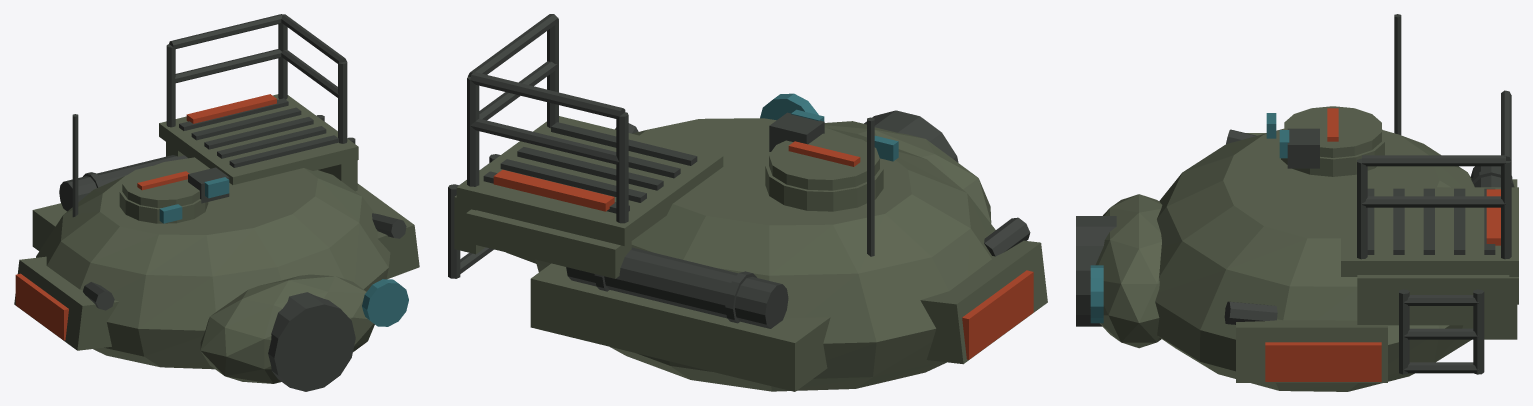
Rendered from Bastion_MT12_Turret.obj.
3 renders of one model, left to right at view 1: azimuth 30°, elevation 25°; view 2: azimuth 150°, elevation 25°; view 3: azimuth 270°, elevation 25°, orthographic. The views are drawn at different scales.
Visible parts, largest first — view 1: Bastion_MT12_Turret; view 2: Bastion_MT12_Turret; view 3: Bastion_MT12_Turret.
Part boxes in pixels (x1,y1,x2,y2): Bastion_MT12_Turret: [14, 14, 419, 391]; Bastion_MT12_Turret: [448, 14, 1047, 391]; Bastion_MT12_Turret: [1076, 14, 1518, 391].
Size of the model in its own units: 3 by 1.77 by 2.74.
1 material, 1 textured.
